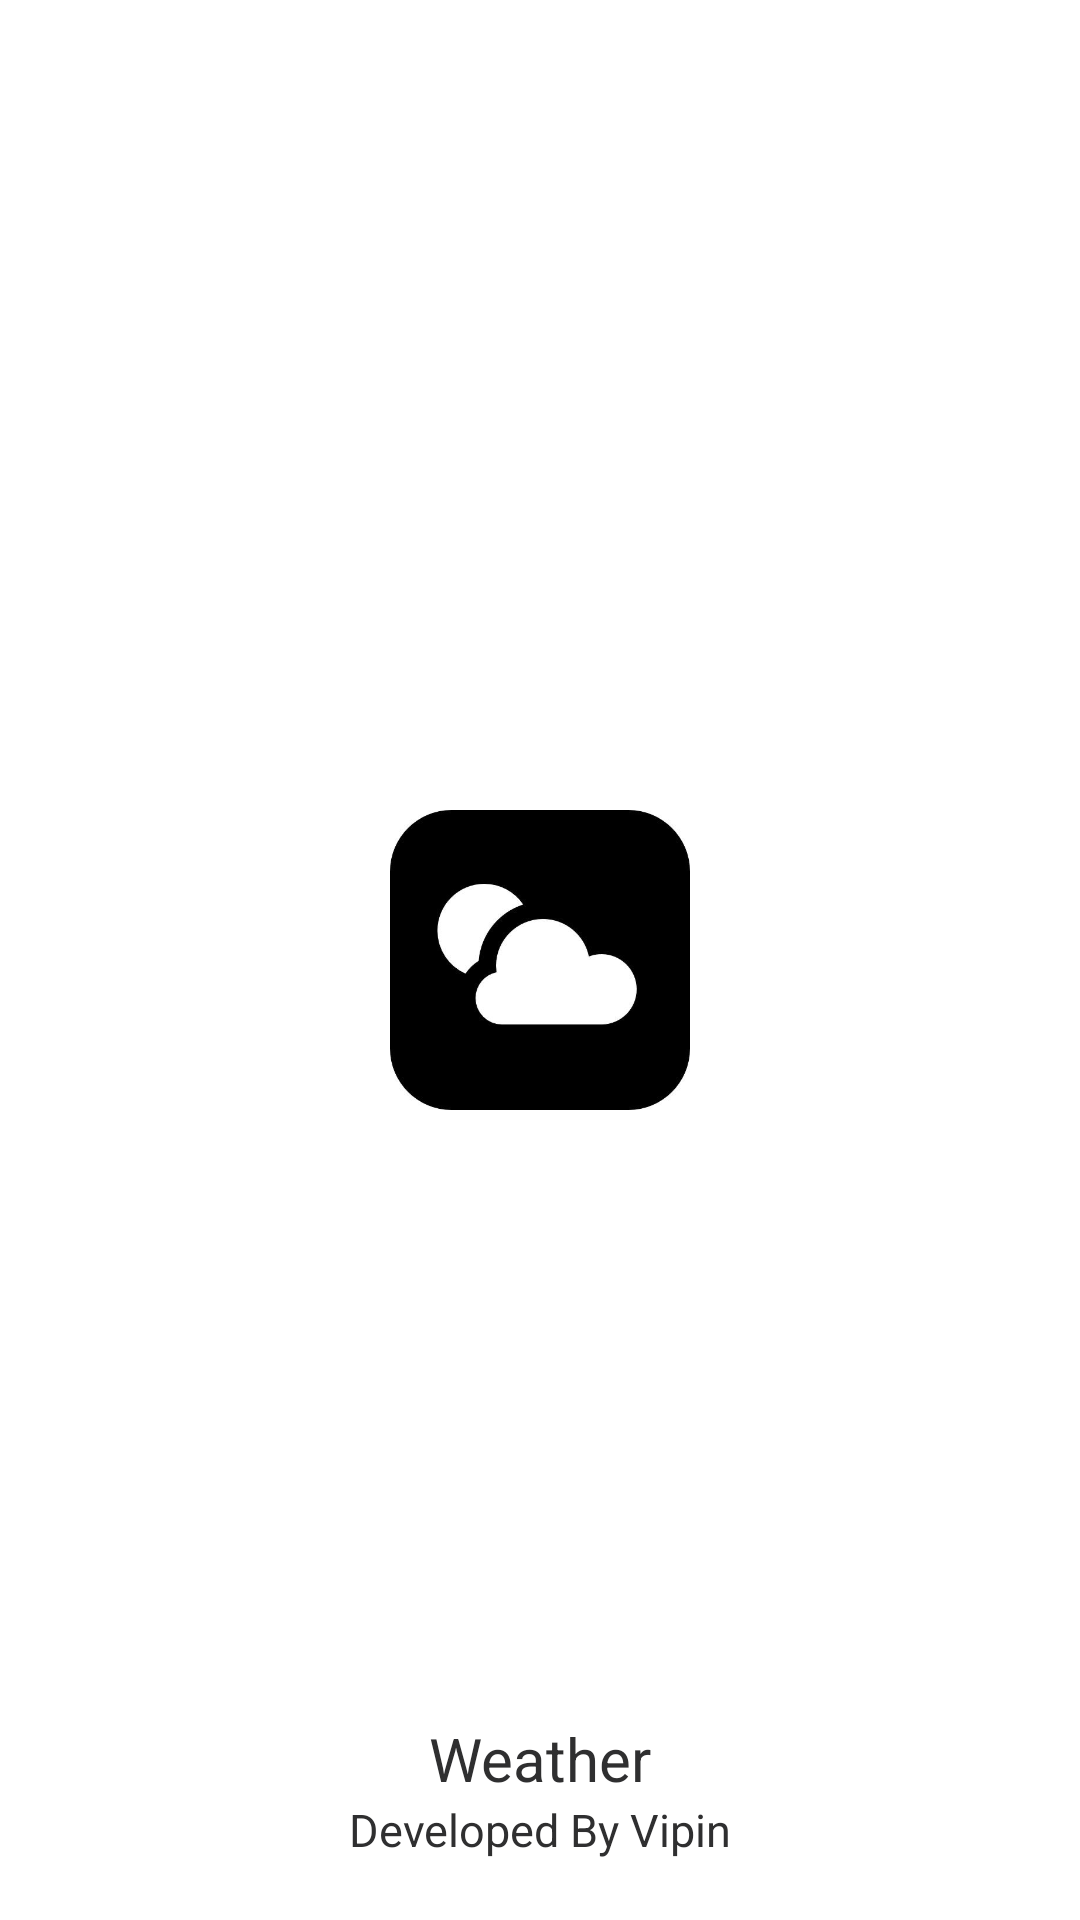

Screen size 1080 x 1920. Icon name, then its center in pixels as (x=x, y=y):
weather: (x=540, y=960)
